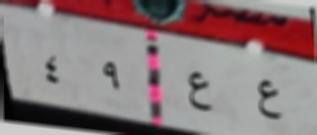4: (41, 53, 62, 90)
9: (99, 57, 123, 96)
ain: (184, 68, 218, 119), (253, 74, 283, 124)
